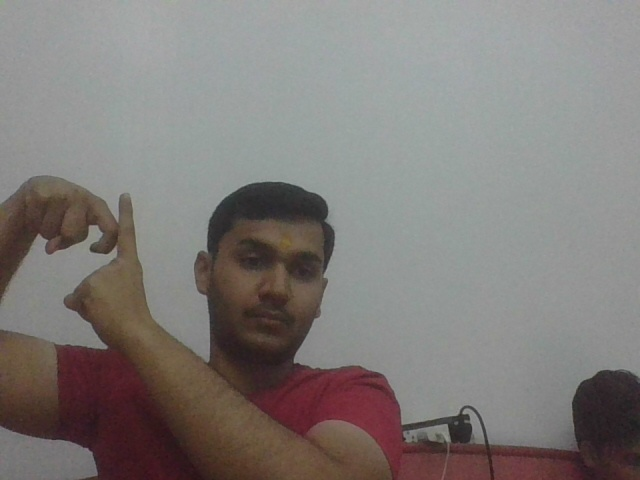K: (70, 180, 145, 284)
